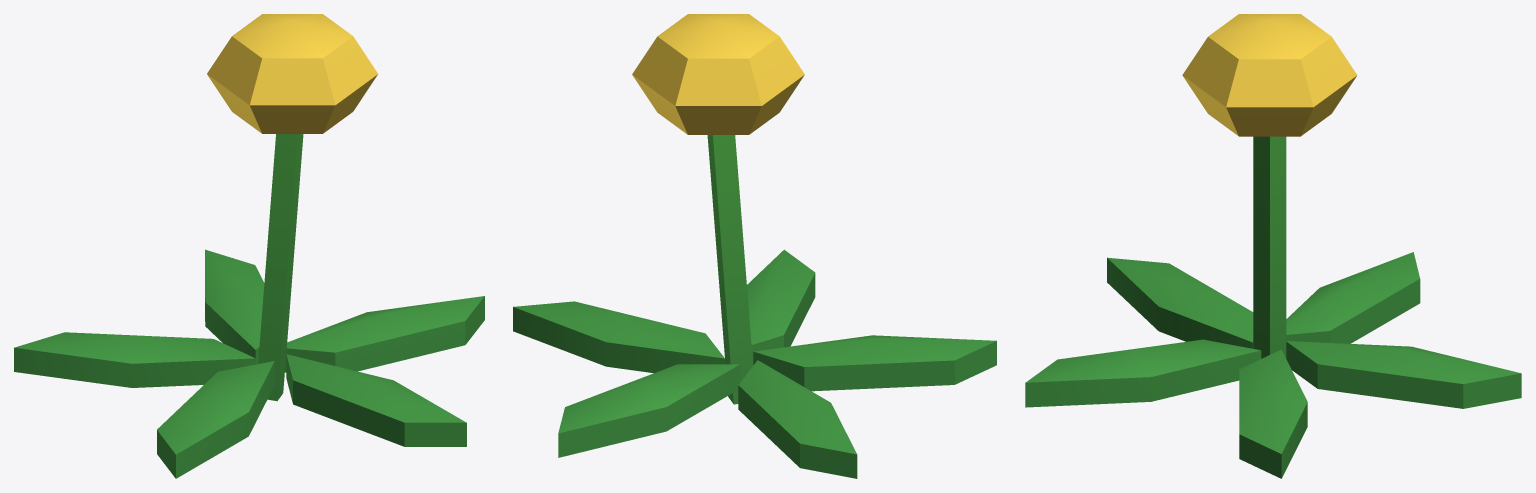
File: tiny_weeds.glb
The picture shows the model from 3 angles, left to right: view 1: azimuth 30°, elevation 25°; view 2: azimuth 150°, elevation 25°; view 3: azimuth 270°, elevation 25°; orthographic projection. The views are drawn at different scales.
Parts seen in each view (by area): view 1: tiny_weeds; view 2: tiny_weeds; view 3: tiny_weeds.
Part boxes in pixels (x1,y1,x2,y2): tiny_weeds: (14,14,484,478); tiny_weeds: (513,14,996,478); tiny_weeds: (1025,14,1521,478).
Size of the model in its own units: 0.1749 by 0.1525 by 0.1813.
